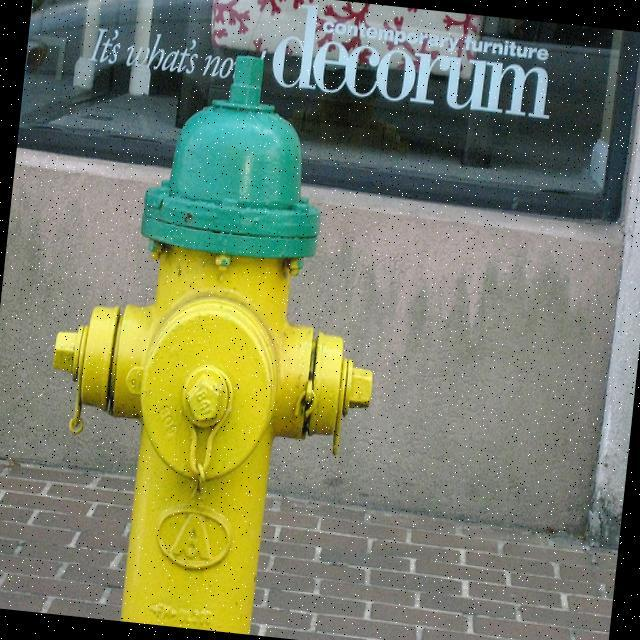fire_hydrant: (21, 39, 404, 632)
